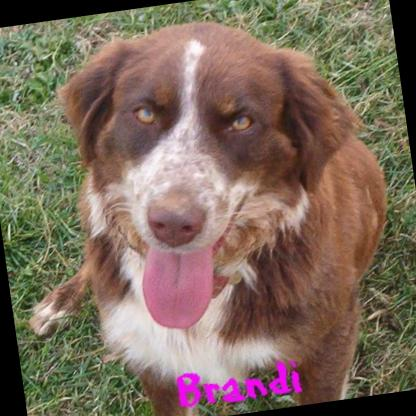Brittany_spaniel: (0, 0, 413, 416)
